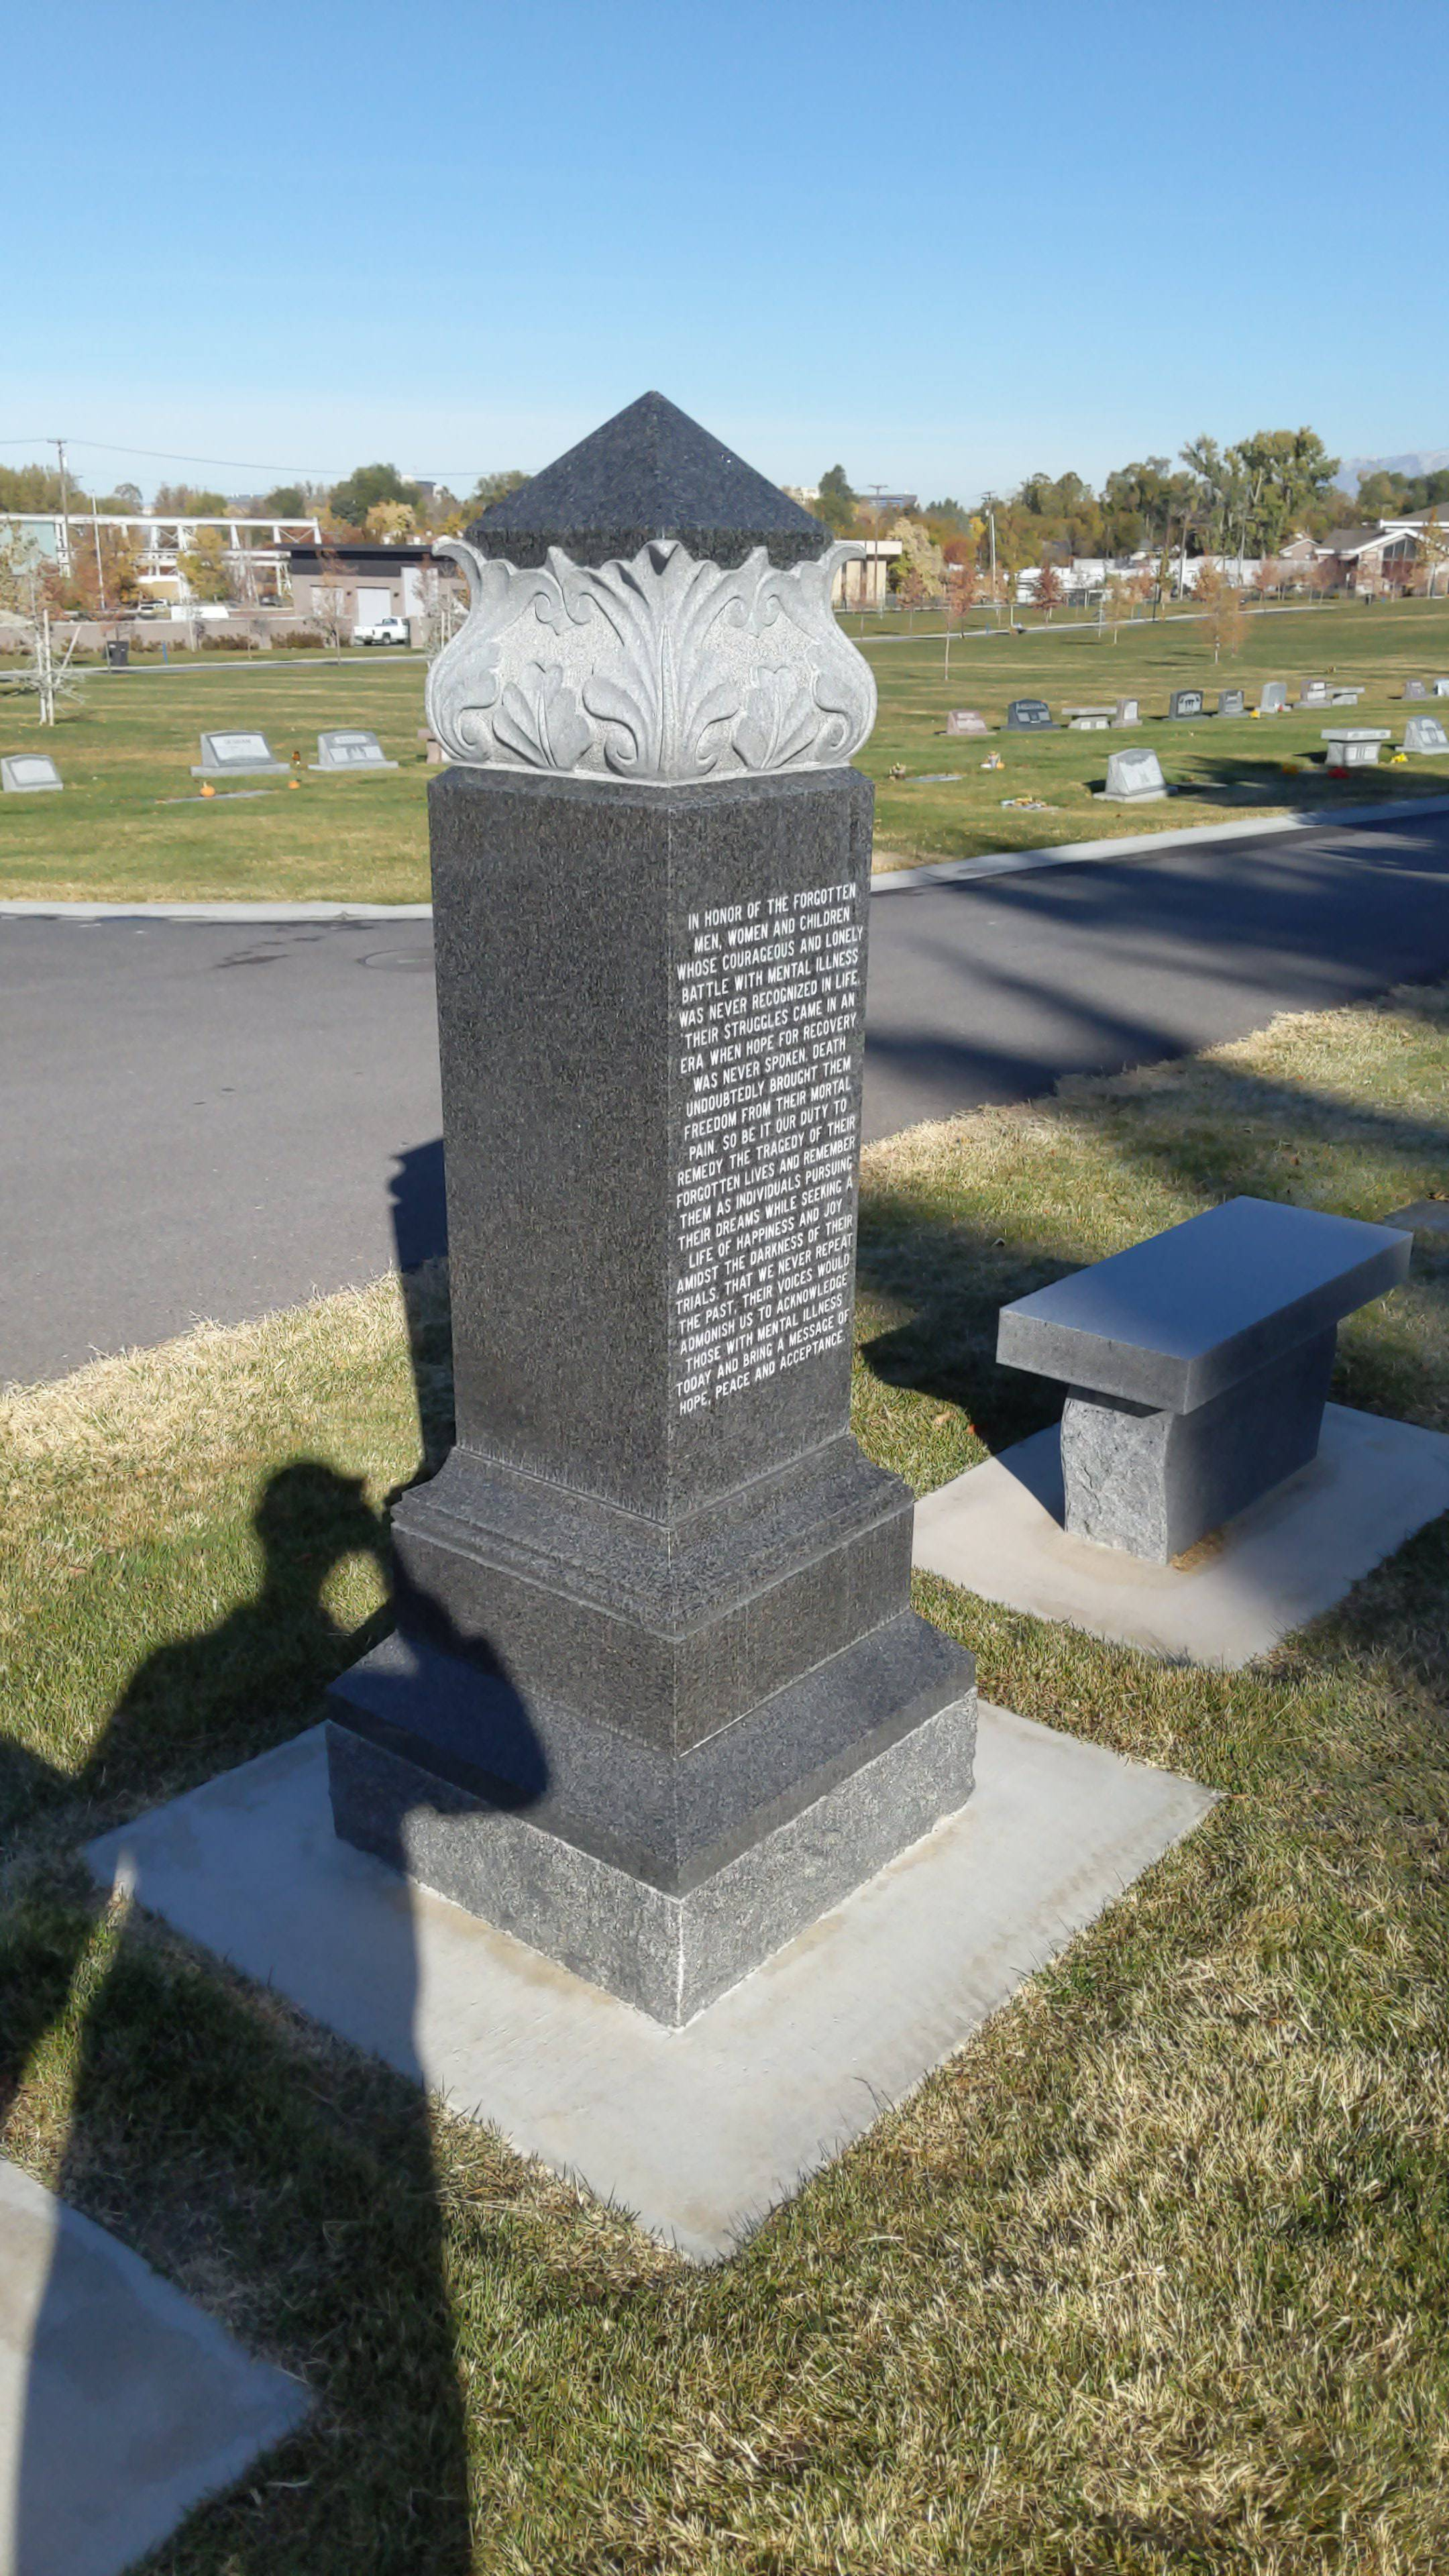obelisk: (333, 403, 975, 2022)
